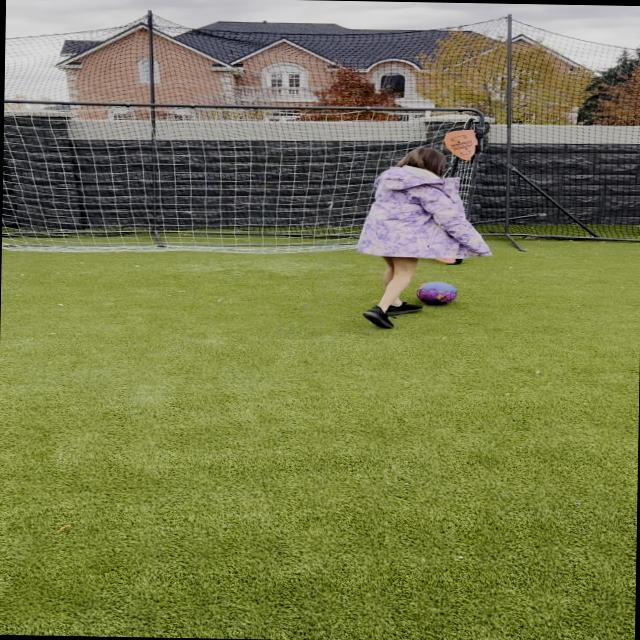Soccer Ball: (415, 280, 456, 305)
